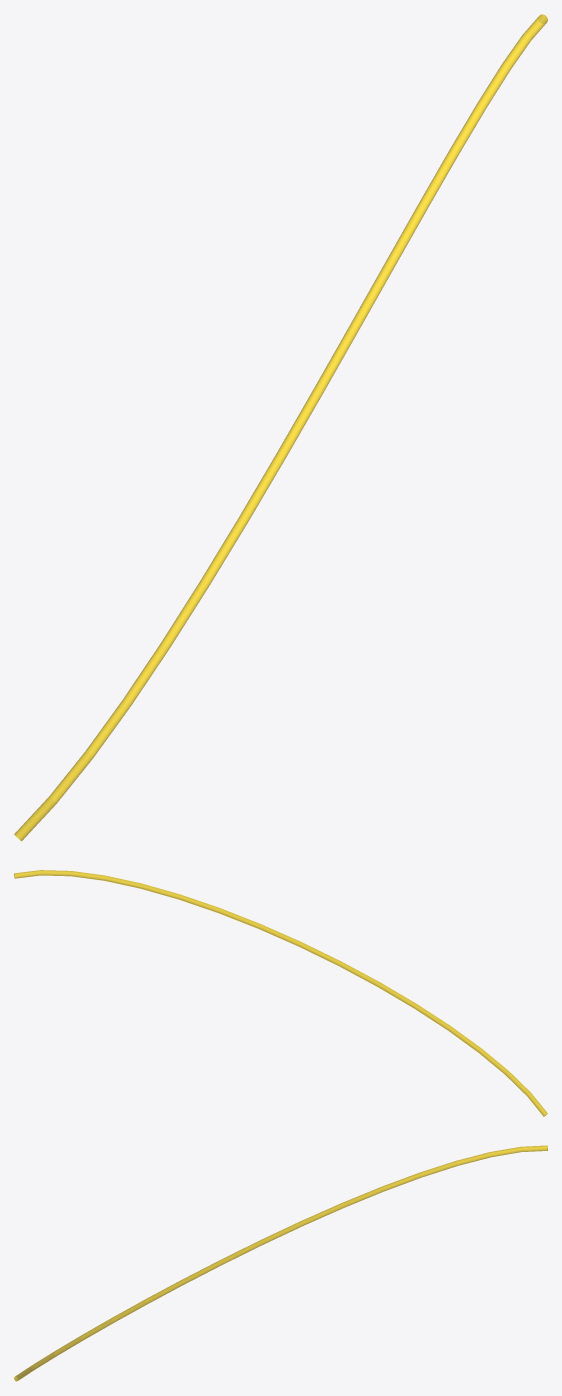
File: Event_100608114_track_4.fbx
3 renders of one model, top to bottom at view 1: azimuth 30°, elevation 25°; view 2: azimuth 150°, elevation 25°; view 3: azimuth 330°, elevation 25°, orthographic. The views are drawn at different scales.
Visible parts, largest first — view 1: Model; view 2: Model; view 3: Model.
Boxes of the visible parts, x1,y1,x2,y2 form: Model: (14, 14, 547, 841); Model: (14, 870, 547, 1116); Model: (14, 1145, 547, 1381).
Bounding box in the file's own units: 3.44 × 1.94 × 1.93.
